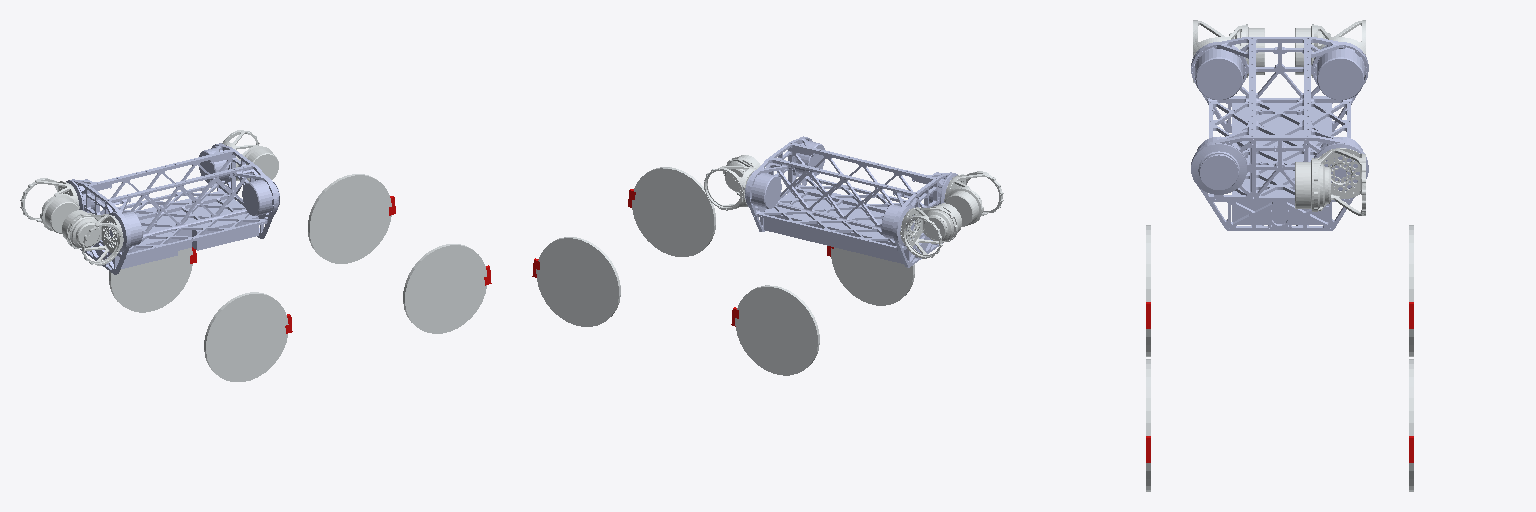
The robot description file, URDF, robot "quadruped_new":
<?xml version="1.0" encoding="utf-8"?>
<robot 
  name="quadruped_new">
  <!-- <link name="world" />
  <joint name="floating_base_joint" type="floating">
   <origin xyz="0 0 0" rpy="0 0 0" />
   <parent link="world" />
   <child link="base_link" />
  </joint> -->
  <link
    name="base">
    <inertial>
      <origin
        xyz="-0.000092 0.001447 -0.042478"
        rpy="0 0 0" />
      <mass
        value="26.5" />
      <inertia
        ixx="0.259494841"
        ixy="-4.1227E-05"
        ixz="1.93862E-04"
        iyy="0.859939262"
        iyz="-2.040130E-03"
        izz="0.945567440" />
    </inertial>
    <visual>
      <origin
        xyz="0 0 0"
        rpy="0 0 0" />
      <geometry>
        <mesh
          filename="../meshes/base_link.STL" />
      </geometry>
      <material
        name="">
        <color
          rgba="0.79216 0.81961 0.93333 1" />
      </material>
    </visual>
    <collision>
      <origin
        xyz="0 0 0"
        rpy="0 0 0" />
      <geometry>
        <mesh
          filename="../meshes/base_link.STL" />
      </geometry>
    </collision>
  </link>
  <link
    name="Abd1Link">
    <inertial>
      <origin
        xyz="0.050570 0.046892 1.0E-06"
        rpy="0 0 0" />
      <mass
        value="1.656" />
      <inertia
        ixx="0.002476692"
        ixy="4.00827E-04"
        ixz="3.0E-09"
        iyy="2.206021E-03"
        iyz="-5.9E-08"
        izz="2.653852E-03" />
    </inertial>
    <visual>
      <origin
        xyz="0 0 0"
        rpy="0 0 0" />
      <geometry>
        <mesh
          filename="../meshes/Abd1Link.STL" />
      </geometry>
      <material
        name="">
        <color
          rgba="0.89804 0.91765 0.92941 1" />
      </material>
    </visual>
    <collision>
      <origin
        xyz="0 0 0"
        rpy="0 0 0" />
      <geometry>
        <mesh
          filename="../meshes/Abd1Link.STL" />
      </geometry>
    </collision>
  </link>
  <joint
    name="Abd1Joint"
    type="revolute">
    <origin
      xyz="0.244 -0.115 0"
      rpy="0 0 0" />
    <parent
      link="base" />
    <child
      link="Abd1Link" />
    <axis
      xyz="1 0 0" />
    <limit
      lower="-0.35" 
      upper="0.35" 
      effort="80"
      velocity="20" />
  </joint>
  <link
    name="Hip1Link">
    <inertial>
      <origin
        xyz="-0.00063 -0.0201 -0.15827"
        rpy="0 0 0" />
      <mass
        value="1.337" />
      <inertia
        ixx="0.018816808"
        ixy="-3.29929E-05"
        ixz="0.000792"
        iyy="0.018864419"
        iyz="0.000185"
        izz="0.000837451" />
    </inertial>
    <visual>
      <origin
        xyz="0 0 0"
        rpy="0 0 0" />
      <geometry>
        <mesh
          filename="../meshes/Hip1Link.STL" />
      </geometry>
      <material
        name="">
        <color
          rgba="0.79216 0.81961 0.93333 1" />
      </material>
    </visual>
    <collision>
      <origin
        xyz="0 0 0"
        rpy="0 0 0" />
      <geometry>
        <mesh
          filename="../meshes/Hip1Link.STL" />
      </geometry>
    </collision>
  </link>
  <joint
    name="Hip1Joint"
    type="revolute">
    <origin
      xyz="0.056 0.018587 0"
      rpy="0 0 0" />
    <parent
      link="Abd1Link" />
    <child
      link="Hip1Link" />
    <axis
      xyz="0 1 0" />
    <limit
      lower="-3.00" 
      upper="-0.35"  
      effort="160"
      velocity="40" />
  </joint>
  <link
    name="Knee1Link">
    <inertial>
      <origin
        xyz="-0.00517 0 -0.12521"
        rpy="0 0 0" />
      <mass
        value="0.6489" />
      <inertia
        ixx="0.006478288"
        ixy="2.4E-10"
        ixz="-0.00013"
        iyy="0.006528945"
        iyz="-1.015E-08"
        izz="0.00013568" />
    </inertial>
    <visual>
      <origin
        xyz="0 0 0"
        rpy="0 0 0" />
      <geometry>
        <mesh
          filename="../meshes/Knee1Link.STL" />
      </geometry>
      <material
        name="">
        <color
          rgba="1 1 1 1" />
      </material>
    </visual>
    <collision>
      <origin
        xyz="0 0 0"
        rpy="0 0 0" />
      <geometry>
        <mesh
          filename="../meshes/Knee1Link.STL" />
      </geometry>
    </collision>
  </link>
  <joint
    name="Knee1Joint"
    type="revolute">
    <origin
      xyz="0 -0.10039 -0.36"
      rpy="0 0 0" />
    <parent
      link="Hip1Link" />
    <child
      link="Knee1Link" />
    <axis
      xyz="0 1 0" />
    <limit
      lower="0.2" 
      upper="3.0" 
      effort="160"
      velocity="40" />
 </joint>
  <link
    name="Wheel1Link">
    <inertial>
      <origin
        xyz="-4.5E-05 0.001797 0.0003157"
        rpy="0 0 0" />
      <mass
        value="0.348" />
      <inertia
        ixx="0.000621735"
        ixy="-5.607E-08"
        ixz="8.73E-07"
        iyy="0.001203666"
        iyz="3.88E-07"
        izz="0.000627665" />
    </inertial>
    <visual>
    <origin
        xyz="0 0 0"
        rpy="1.571 0 0" />
      <geometry>
          <cylinder length="0.01" radius="0.125"/> 
      </geometry>
      <material
        name="">
        <color
          rgba="0.89804 0.91765 0.92941 1" />
      </material>
    </visual>
    <visual>
      <origin
        xyz="0.125 0 0"
        rpy="0 0 0" />
      <geometry>
        <box size="0.02 0.01 0.05" />
      </geometry>
      <material name="wheel_marker_red">
        <color rgba="0.9 0.1 0.1 1" />
      </material>
    </visual>

    <collision>
      <origin
        xyz="0 0 0"
        rpy="1.571 0 0" />
      <geometry>
          <cylinder length="0.01" radius="0.125"/> 
      </geometry>
    </collision>
  </link>
  <joint
    name="Wheel1Joint"
    type="fixed">
    <origin
      xyz="0 -0.052299 -0.36"
      rpy="0 0 0" />
    <parent
      link="Knee1Link" />
    <child
      link="Wheel1Link" />
    <axis
      xyz="0 1 0" />
    <limit
      effort="10"
      velocity="18.85" />
  </joint>
  <link name="Wheel1Point" />
  <joint name="Wheel1GrandJoint" type="fixed">
   <origin xyz="0 0 -0.1015" rpy="0 0 0" />
   <parent link="Wheel1Link" />
   <child link="Wheel1Point" />

  </joint>
  <link
    name="Abd2Link">
    <inertial>
      <origin
        xyz="-0.050570 0.046982 -1.0E-06"
        rpy="0 0 0" />
      <mass
        value="1.656" />
      <inertia
        ixx="0.002476692"
        ixy="-4.00827E-04"
        ixz="3.0E-09"
        iyy="2.206021E-03"
        iyz="5.9E-08"
        izz="2.653852E-03" />
    </inertial>
    <visual>
      <origin
        xyz="0 0 0"
        rpy="0 0 0" />
      <geometry>
        <mesh
          filename="../meshes/Abd2Link.STL" />
      </geometry>
      <material
        name="">
        <color
          rgba="0.89804 0.91765 0.92941 1" />
      </material>
    </visual>
    <collision>
      <origin
        xyz="0 0 0"
        rpy="0 0 0" />
      <geometry>
        <mesh
          filename="../meshes/Abd2Link.STL" />
      </geometry>
    </collision>
  </link>
  <joint
    name="Abd2Joint"
    type="revolute">
    <origin
      xyz="-0.244 -0.115 0"
      rpy="0 0 0" />
    <parent
      link="base" />
    <child
      link="Abd2Link" />
    <axis
      xyz="1 0 0" />
    <limit
      lower="-0.35" 
      upper="0.35"
      effort="80"
      velocity="20" />
  </joint>
  <link
    name="Hip2Link">
    <inertial>
      <origin
        xyz="-0.00063 -0.0201 -0.15827"
        rpy="0 0 0" />
      <mass
        value="1.337" />
      <inertia
        ixx="0.018816808"
        ixy="-3.29929E-05"
        ixz="0.000792"
        iyy="0.018864419"
        iyz="0.000185"
        izz="0.000837451" />
    </inertial>
    <visual>
      <origin
        xyz="0 0 0"
        rpy="0 0 0" />
      <geometry>
        <mesh
          filename="../meshes/Hip2Link.STL" />
      </geometry>
      <material
        name="">
        <color
          rgba="0.79216 0.81961 0.93333 1" />
      </material>
    </visual>
    <collision>
      <origin
        xyz="0 0 0"
        rpy="0 0 0" />
      <geometry>
        <mesh
          filename="../meshes/Hip2Link.STL" />
      </geometry>
    </collision>
  </link>
  <joint
    name="Hip2Joint"
    type="revolute">
    <origin
      xyz="-0.056 0.018587 0"
      rpy="0 0 0" />
    <parent
      link="Abd2Link" />
    <child
      link="Hip2Link" />
    <axis
      xyz="0 1 0" />
    <limit
      lower="-3.00" 
      upper="-0.35"  
      effort="160"
      velocity="40" />
  </joint>
  <link
    name="Knee2Link">
    <inertial>
      <origin
        xyz="-0.00517 0 -0.12521"
        rpy="0 0 0" />
      <mass
        value="0.6489" />
      <inertia
        ixx="0.006478288"
        ixy="2.4E-10"
        ixz="-0.00013"
        iyy="0.006528945"
        iyz="-1.015E-08"
        izz="0.00013568" />
    </inertial>
    <visual>
      <origin
        xyz="0 0 0"
        rpy="0 0 0" />
      <geometry>
        <mesh
          filename="../meshes/Knee2Link.STL" />
      </geometry>
      <material
        name="">
        <color
          rgba="1 1 1 1" />
      </material>
    </visual>
    <collision>
      <origin
        xyz="0 0 0"
        rpy="0 0 0" />
      <geometry>
        <mesh
          filename="../meshes/Knee2Link.STL" />
      </geometry>
    </collision>
  </link>
  <joint
    name="Knee2Joint"
    type="revolute">
    <origin
      xyz="0 -0.10039 -0.36"
      rpy="0 0 0" />
    <parent
      link="Hip2Link" />
    <child
      link="Knee2Link" />
    <axis
      xyz="0 1 0" />
    <limit
      lower="0.2" 
      upper="3.0" 
      effort="160"
      velocity="40" />

</joint>
  <link
    name="Wheel2Link">
    <inertial>
      <origin
        xyz="3.15E-04 0.001797 -4.1E-5"
        rpy="0 0 0" />
      <mass
        value="0.348" />
      <inertia
        ixx="0.000627689"
        ixy="3.95E-07"
        ixz="7.88E-07"
        iyy="0.001203666"
        iyz="-6.2E-07"
        izz="0.000621711" />
    </inertial>
    <visual>
    <origin
        xyz="0 0 0"
        rpy="1.571 0 0" />
      <geometry>
          <cylinder length="0.01" radius="0.125"/> 
      </geometry>
      <material
        name="">
        <color
          rgba="0.898039215686275 0.917647058823529 0.929411764705882 1" />
      </material>
    </visual>
    <visual>
      <origin
        xyz="0.125 0 0"
        rpy="0 0 0" />
      <geometry>
        <box size="0.02 0.01 0.05" />
      </geometry>
      <material name="wheel_marker_red">
        <color rgba="0.9 0.1 0.1 1" />
      </material>
    </visual>

    <collision>
      <origin
        xyz="0 0 0"
        rpy="1.571 0 0" />
      <geometry>
          <cylinder length="0.01" radius="0.125"/> 
      </geometry>
    </collision>
  </link>
  <joint
    name="Wheel2Joint"
    type="revolute">
    <origin
      xyz="0 -0.052299 -0.36"
      rpy="0 0 0" />
    <parent
      link="Knee2Link" />
    <child
      link="Wheel2Link" />
    <axis
      xyz="0 1 0" />
    <limit
      effort="10"
      velocity="18.85" />
  </joint>
  <link name="Wheel2Point" />
  <joint name="Wheel2GrandJoint" type="fixed">
   <origin xyz="0 0 -0.1015" rpy="0 0 0" />
   <parent link="Wheel2Link" />
   <child link="Wheel2Point" />

  </joint>
  <link
    name="Abd3Link">
    <inertial>
      <origin
        xyz="0.050570 -0.046982 -1.0E-06"
        rpy="0 0 0" />
      <mass
        value="1.656" />
      <inertia
        ixx="0.002476692"
        ixy="-4.00827E-04"
        ixz="-3.0E-09"
        iyy="2.206021E-03"
        iyz="-5.9E-08"
        izz="2.653852E-03" />
    </inertial>
    <visual>
      <origin
        xyz="0 0 0"
        rpy="0 0 0" />
      <geometry>
        <mesh
          filename="../meshes/Abd3Link.STL" />
      </geometry>
      <material
        name="">
        <color
          rgba="0.89804 0.91765 0.92941 1" />
      </material>
    </visual>
    <collision>
      <origin
        xyz="0 0 0"
        rpy="0 0 0" />
      <geometry>
        <mesh
          filename="../meshes/Abd3Link.STL" />
      </geometry>
    </collision>
  </link>
  <joint
    name="Abd3Joint"
    type="revolute">
    <origin
      xyz="0.244 0.115 0"
      rpy="0 0 0" />
    <parent
      link="base" />
    <child
      link="Abd3Link" />
    <axis
      xyz="1 0 0" />
    <limit
      lower="-0.35" 
      upper="0.35"
      effort="80"
      velocity="20" />
  </joint>
  <link
    name="Hip3Link">
    <inertial>
      <origin
        xyz="-0.00063 0.0201 -0.15827"
        rpy="0 0 0" />
      <mass
        value="1.337" />
      <inertia
        ixx="0.018816835"
        ixy="-3.29964E-05"
        ixz="0.000792"
        iyy="0.018864405"
        iyz="0.000185353"
        izz="0.000837413" />
    </inertial>
    <visual>
      <origin
        xyz="0 0 0"
        rpy="0 0 0" />
      <geometry>
        <mesh
          filename="../meshes/Hip3Link.STL" />
      </geometry>
      <material
        name="">
        <color
          rgba="0.79216 0.81961 0.93333 1" />
      </material>
    </visual>
    <collision>
      <origin
        xyz="0 0 0"
        rpy="0 0 0" />
      <geometry>
        <mesh
          filename="../meshes/Hip3Link.STL" />
      </geometry>
    </collision>
  </link>
  <joint
    name="Hip3Joint"
    type="revolute">
    <origin
      xyz="0.056 -0.018587 0"
      rpy="0 0 0" />
    <parent
      link="Abd3Link" />
    <child
      link="Hip3Link" />
    <axis
      xyz="0 1 0" />
    <limit
      lower="-3.00" 
      upper="-0.35" 
      effort="160"
      velocity="40" />
  </joint>
  <link
    name="Knee3Link">
    <inertial>
      <origin
        xyz="-0.00517 0 -0.12521"
        rpy="0 0 0" />
      <mass
        value="0.6489" />
      <inertia
        ixx="0.006478288"
        ixy="2.4E-10"
        ixz="-0.00013"
        iyy="0.006528945"
        iyz="-1.015E-08"
        izz="0.00013568" />
    </inertial>
    <visual>
      <origin
        xyz="0 0 0"
        rpy="0 0 0" />
      <geometry>
        <mesh
          filename="../meshes/Knee3Link.STL" />
      </geometry>
      <material
        name="">
        <color
          rgba="1 1 1 1" />
      </material>
    </visual>
    <collision>
      <origin
        xyz="0 0 0"
        rpy="0 0 0" />
      <geometry>
        <mesh
          filename="../meshes/Knee3Link.STL" />
      </geometry>
    </collision>
  </link>
  <joint
    name="Knee3Joint"
    type="revolute">
    <origin
      xyz="0 0.10039 -0.36"
      rpy="0 0 0" />
    <parent
      link="Hip3Link" />
    <child
      link="Knee3Link" />
    <axis
      xyz="0 1 0" />
    <limit
      lower="0.2" 
      upper="3.0" 
      effort="160"
      velocity="40" />
  </joint>
  <link
    name="Wheel3Link">
    <inertial>
      <origin
        xyz="3.02E-04 -0.001797 9.9E-5"
        rpy="0 0 0" />
      <mass
        value="0.348" />
      <inertia
        ixx="0.000627201"
        ixy="-3.78E-07"
        ixz="-1.817E-06"
        iyy="0.001203666"
        iyz="-1.15E-07"
        izz="0.000622200" />
    </inertial>
    <visual>
    <origin
        xyz="0 0 0"
        rpy="1.571 0 0" />
      <geometry>
          <cylinder length="0.01" radius="0.125"/> 
      </geometry>
      <material
        name="">
        <color
          rgba="0.898039215686275 0.917647058823529 0.929411764705882 1" />
      </material>
    </visual>
    <visual>
      <origin
        xyz="0.125 0 0"
        rpy="0 0 0" />
      <geometry>
        <box size="0.02 0.01 0.05" />
      </geometry>
      <material name="wheel_marker_red">
        <color rgba="0.9 0.1 0.1 1" />
      </material>
    </visual>

    <collision>
      <origin
        xyz="0 0 0"
        rpy="1.571 0 0" />
      <geometry>
          <cylinder length="0.01" radius="0.125"/> 
      </geometry>
    </collision>
  </link>
  <joint
    name="Wheel3Joint"
    type="revolute">
    <origin
      xyz="0 0.052599 -0.36"
      rpy="0 0 0" />
    <parent
      link="Knee3Link" />
    <child
      link="Wheel3Link" />
    <axis
      xyz="0 1 0" />
    <limit
      effort="10"
      velocity="18.85" />
  </joint>
  <link name="Wheel3Point" />
  <joint name="Wheel3GrandJoint" type="fixed">
   <origin xyz="0 0 -0.1015" rpy="0 0 0" />
   <parent link="Wheel3Link" />
   <child link="Wheel3Point" />

  </joint>
  <link
    name="Abd4Link">
    <inertial>
      <origin
        xyz="-0.050570 -0.046982 1.0E-06"
        rpy="0 0 0" />
      <mass
        value="1.656" />
      <inertia
        ixx="0.002476692"
        ixy="4.00827E-04"
        ixz="-3.0E-09"
        iyy="2.206021E-03"
        iyz="5.9E-08"
        izz="2.653852E-03" />
    </inertial>
    <visual>
      <origin
        xyz="0 0 0"
        rpy="0 0 0" />
      <geometry>
        <mesh
          filename="../meshes/Abd4Link.STL" />
      </geometry>
      <material
        name="">
        <color
          rgba="0.89804 0.91765 0.92941 1" />
      </material>
    </visual>
    <collision>
      <origin
        xyz="0 0 0"
        rpy="0 0 0" />
      <geometry>
        <mesh
          filename="../meshes/Abd4Link.STL" />
      </geometry>
    </collision>
  </link>
  <joint
    name="Abd4Joint"
    type="revolute">
    <origin
      xyz="-0.244 0.115 0"
      rpy="0 0 0" />
    <parent
      link="base" />
    <child
      link="Abd4Link" />
    <axis
      xyz="1 0 0" />
    <limit
      lower="-0.35" 
      upper="0.35"
      effort="80"
      velocity="20" />
  </joint>
  <link
    name="Hip4Link">
    <inertial>
      <origin
        xyz="-0.00063 0.0201 -0.15827"
        rpy="0 0 0" />
      <mass
        value="1.337" />
      <inertia
        ixx="0.018816835"
        ixy="-3.29964E-05"
        ixz="0.000792"
        iyy="0.018864405"
        iyz="0.000185353"
        izz="0.000837413" />
    </inertial>
    <visual>
      <origin
        xyz="0 0 0"
        rpy="0 0 0" />
      <geometry>
        <mesh
          filename="../meshes/Hip4Link.STL" />
      </geometry>
      <material
        name="">
        <color
          rgba="0.79216 0.81961 0.93333 1" />
      </material>
    </visual>
    <collision>
      <origin
        xyz="0 0 0"
        rpy="0 0 0" />
      <geometry>
        <mesh
          filename="../meshes/Hip4Link.STL" />
      </geometry>
    </collision>
  </link>
  <joint
    name="Hip4Joint"
    type="revolute">
    <origin
      xyz="-0.056 -0.018587 0"
      rpy="0 0 0" />
    <parent
      link="Abd4Link" />
    <child
      link="Hip4Link" />
    <axis
      xyz="0 1 0" />
    <limit
      lower="-3.00" 
      upper="-0.35" 
      effort="160"
      velocity="40" />
  </joint>
  <link
    name="Knee4Link">
    <inertial>
      <origin
        xyz="-0.00517 0 -0.12521"
        rpy="0 0 0" />
      <mass
        value="0.6489" />
      <inertia
        ixx="0.006478288"
        ixy="2.4E-10"
        ixz="-0.00013"
        iyy="0.006528945"
        iyz="-1.015E-08"
        izz="0.00013568" />
    </inertial>
    <visual>
      <origin
        xyz="0 0 0"
        rpy="0 0 0" />
      <geometry>
        <mesh
          filename="../meshes/Knee4Link.STL" />
      </geometry>
      <material
        name="">
        <color
          rgba="1 1 1 1" />
      </material>
    </visual>
    <collision>
      <origin
        xyz="0 0 0"
        rpy="0 0 0" />
      <geometry>
        <mesh
          filename="../meshes/Knee4Link.STL" />
      </geometry>
    </collision>
  </link>
  <joint
    name="Knee4Joint"
    type="revolute">
    <origin
      xyz="0 0.10039 -0.36"
      rpy="0 0 0" />
    <parent
      link="Hip4Link" />
    <child
      link="Knee4Link" />
    <axis
      xyz="0 1 0" />
    <limit
      lower="0.2" 
      upper="3.0" 
      effort="160"
      velocity="40" />
 </joint>
  <link
    name="Wheel4Link">
    <inertial>
      <origin
        xyz="2.7E-04 -0.001797 -0.000167"
        rpy="0 0 0" />
      <mass
        value="0.348" />
      <inertia
        ixx="0.000626067"
        ixy="-3.38E-07"
        ixz="2.772E-06"
        iyy="0.001203666"
        iyz="2.21E-07"
        izz="0.000623334" />
    </inertial>
    <visual>
    <origin
        xyz="0 0 0"
        rpy="1.571 0 0" />
      <geometry>
          <cylinder length="0.01" radius="0.125"/> 
      </geometry>
      <material
        name="">
        <color
          rgba="0.898039215686275 0.917647058823529 0.929411764705882 1" />
      </material>
    </visual>
    <visual>
      <origin
        xyz="0.125 0 0"
        rpy="0 0 0" />
      <geometry>
        <box size="0.02 0.01 0.05" />
      </geometry>
      <material name="wheel_marker_red">
        <color rgba="0.9 0.1 0.1 1" />
      </material>
    </visual>

    <collision>
      <origin
        xyz="0 0 0"
        rpy="1.571 0 0" />
      <geometry>
          <cylinder length="0.01" radius="0.125"/> 
      </geometry>
    </collision>
  </link>
  <joint
    name="Wheel4Joint"
    type="revolute">
    <origin
      xyz="0 0.052599 -0.36"
      rpy="0 0 0" />
    <parent
      link="Knee4Link" />
    <child
      link="Wheel4Link" />
    <axis
      xyz="0 1 0" />
    <limit
      effort="10"
      velocity="15" />
  </joint>
  <link name="Wheel4Point" />
  <joint name="Wheel4GrandJoint" type="fixed">
   <origin xyz="0 0 -0.1015" rpy="0 0 0" />
   <parent link="Wheel4Link" />
   <child link="Wheel4Point" />
  </joint>
</robot>

--- Render facts (derived) ---
3 views of the same robot in one strip: view 1: azimuth 30°, elevation 25°; view 2: azimuth 150°, elevation 25°; view 3: azimuth 270°, elevation 25° (orthographic).
Robot: quadruped_new — 21 links, 20 joints (15 revolute, 5 fixed); root link base; default pose: all joints at 0 but 8 set to mid-range because 0 is outside their limits (Hip1Joint = -1.68, Knee1Joint = 1.6, Hip2Joint = -1.68, Knee2Joint = 1.6, Hip3Joint = -1.68, Knee3Joint = 1.6, +2 more).
Links seen in each view (by area): view 1: base, Wheel2Link, Wheel1Link, Wheel3Link, Wheel4Link, Abd2Link, Abd4Link, Abd3Link; view 2: base, Wheel3Link, Wheel4Link, Wheel1Link, Wheel2Link, Abd4Link, Abd2Link, Abd3Link; view 3: base, Abd3Link, Abd2Link, Abd4Link, Wheel1Link, Wheel3Link, Wheel2Link, Wheel4Link.
Link boxes in pixels (x1,y1,x2,y2): base: [66, 143, 279, 274]; Wheel2Link: [204, 292, 292, 381]; Wheel1Link: [403, 244, 491, 333]; Wheel3Link: [308, 174, 395, 263]; Wheel4Link: [109, 247, 196, 312]; Abd2Link: [62, 210, 123, 265]; Abd4Link: [20, 178, 79, 233]; Abd3Link: [222, 130, 278, 181]; base: [745, 136, 957, 267]; Wheel3Link: [532, 237, 620, 326]; Wheel4Link: [731, 285, 819, 375]; Wheel1Link: [628, 167, 715, 256]; Wheel2Link: [827, 246, 914, 305]; Abd4Link: [900, 203, 961, 258]; Abd2Link: [944, 171, 1003, 226]; Abd3Link: [704, 155, 760, 210]; base: [1191, 37, 1368, 230]; Abd3Link: [1295, 148, 1365, 215]; Abd2Link: [1193, 20, 1264, 82]; Abd4Link: [1295, 20, 1365, 82]; Wheel1Link: [1146, 359, 1150, 491]; Wheel3Link: [1409, 359, 1413, 491]; Wheel2Link: [1146, 225, 1150, 356]; Wheel4Link: [1409, 225, 1413, 356].
Size in the robot's own frame: 1.18 by 0.5086 by 0.5112 metres.
Meshes: 13 distinct files referenced, 4 mesh visuals loaded (4 binary STL); not drawn: 9 (reference not matched to a file when rendering).
